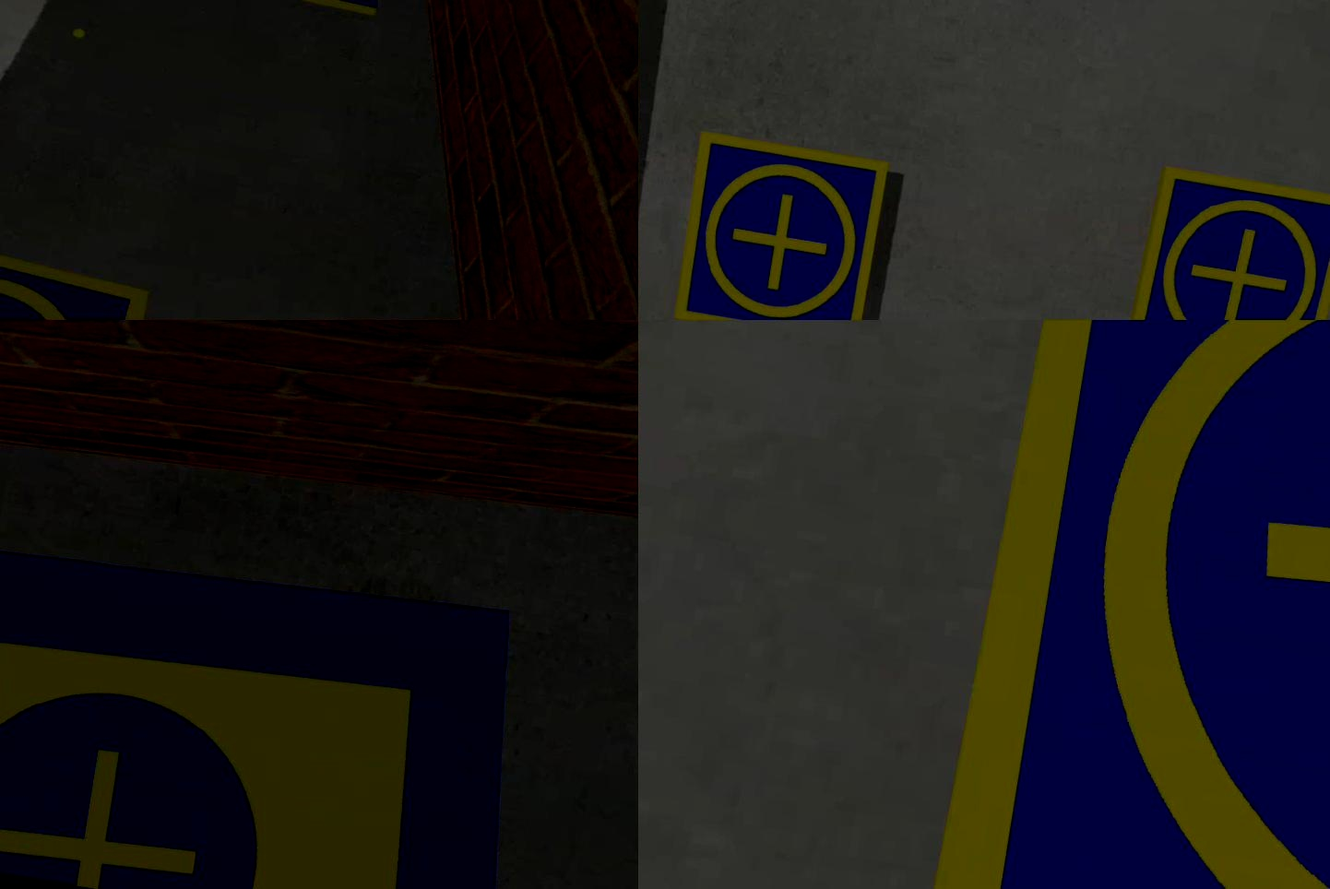large_base: (1, 484, 548, 889)
small_base: (911, 321, 1330, 889), (669, 126, 895, 321), (1121, 160, 1330, 321)
